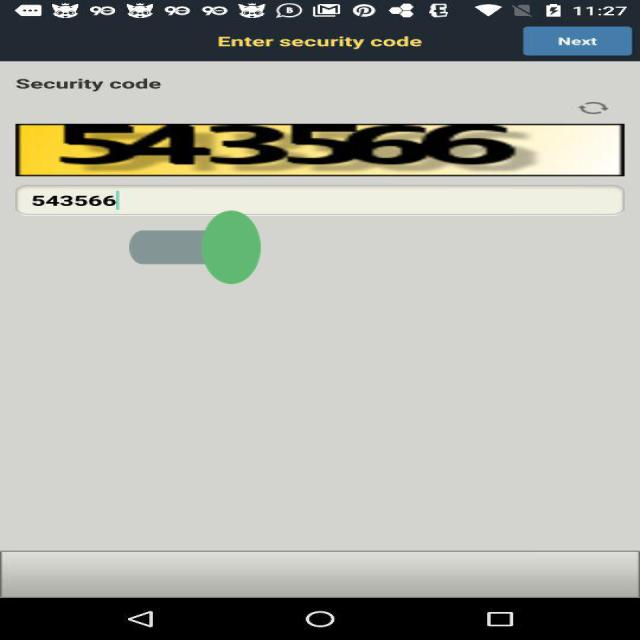social proof: (129, 166, 261, 330)
